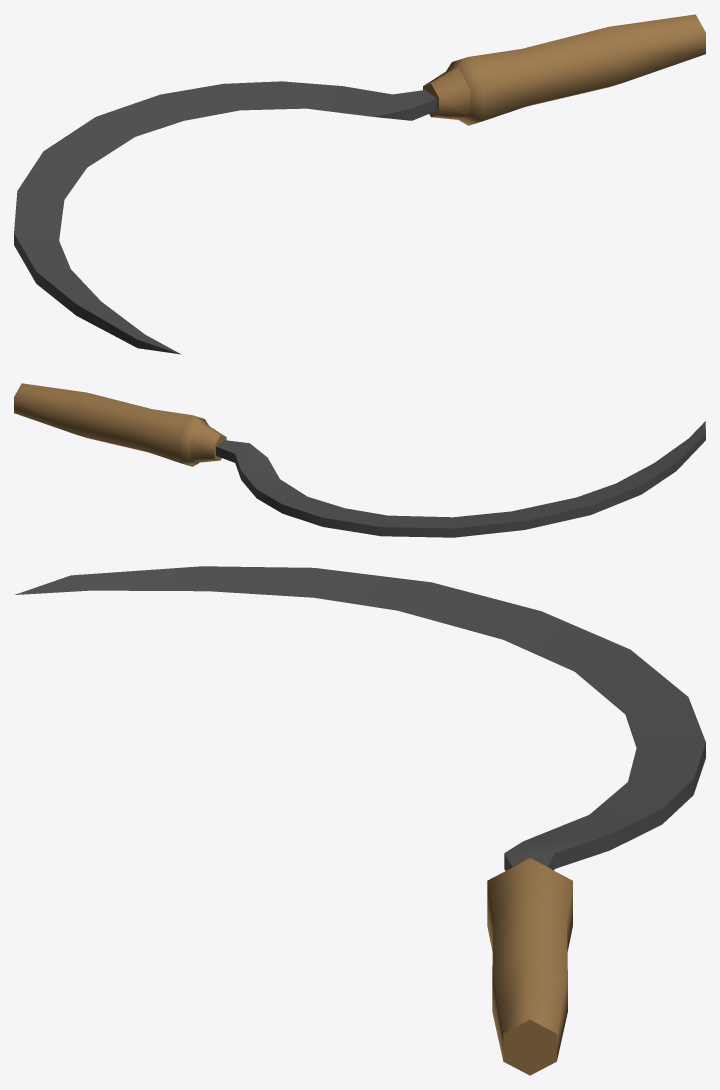
Rendered from foice.fbx.
The picture shows the model from 3 angles, top to bottom: view 1: azimuth 30°, elevation 25°; view 2: azimuth 150°, elevation 25°; view 3: azimuth 270°, elevation 25°; orthographic projection. The views are drawn at different scales.
Parts seen in each view (by area): view 1: foice; view 2: foice; view 3: foice.
Part boxes in pixels (x1,y1,x2,y2): foice: (14,14,705,354); foice: (14,383,705,537); foice: (15,566,705,1075).
Size of the model in its own units: 550 by 48.66 by 340.
